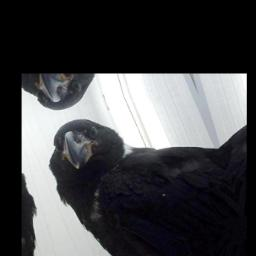Crow: (34, 79, 246, 256)
